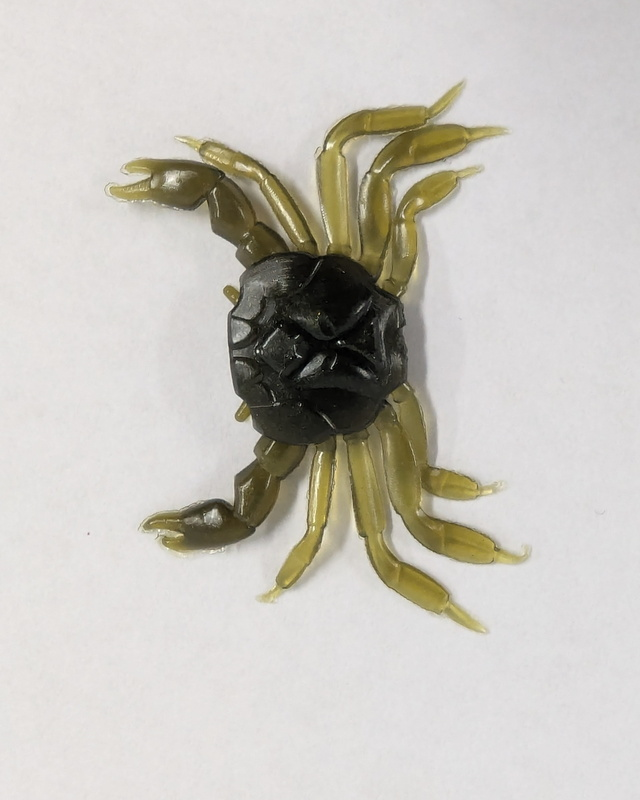crab2: (106, 75, 537, 640)
